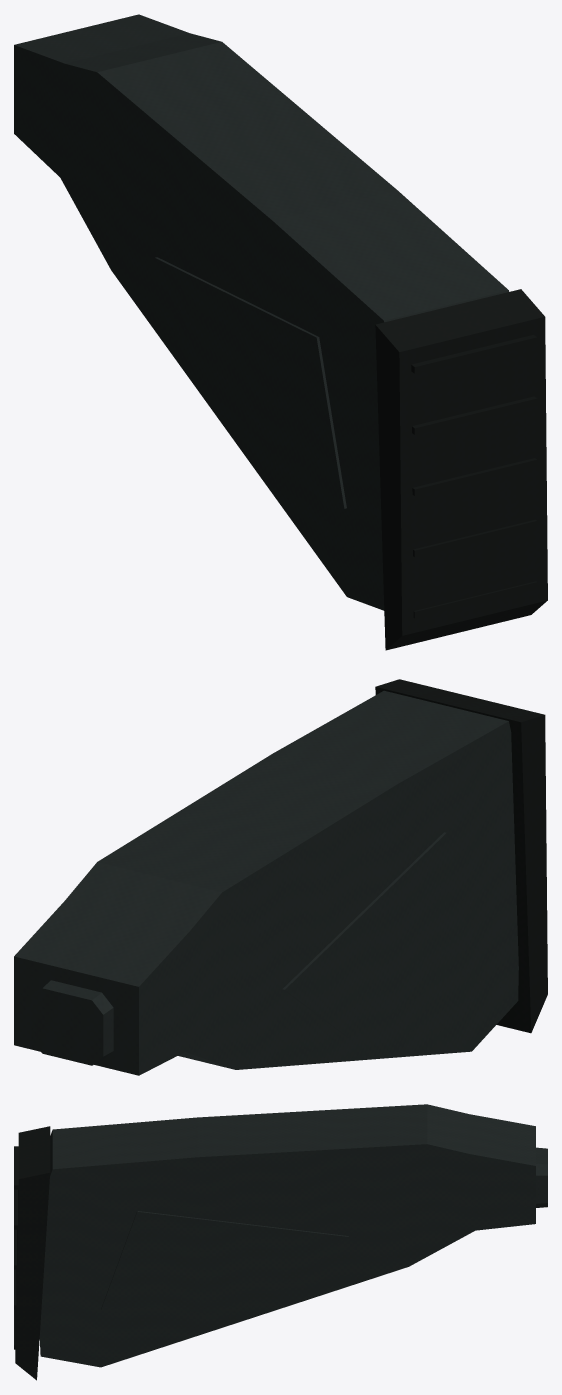
The model's file is saiga_stock.glb.
3 renders of one model, top to bottom at view 1: azimuth 30°, elevation 25°; view 2: azimuth 150°, elevation 25°; view 3: azimuth 270°, elevation 25°, orthographic. The views are drawn at different scales.
Visible parts, largest first — view 1: stock__saiga_stock_LOD0_RAID_Secondary_Original_polymer, stock__saiga_stock_LOD1_RAID_Secondary_Original_polymer, stock__saiga_stock_LOD1_RAID_Secondary_Original_rubber, stock__saiga_stock_LOD0_RAID_Secondary_Original_rubber; view 2: stock__saiga_stock_LOD0_RAID_Secondary_Original_polymer, stock__saiga_stock_LOD1_RAID_Secondary_Original_polymer, stock__saiga_stock_LOD0_RAID_Secondary_Original_rubber, stock__saiga_stock_LOD1_RAID_Secondary_Original_rubber; view 3: stock__saiga_stock_LOD0_RAID_Secondary_Original_polymer, stock__saiga_stock_LOD1_RAID_Secondary_Original_polymer, stock__saiga_stock_LOD0_RAID_Secondary_Original_rubber, stock__saiga_stock_LOD1_RAID_Secondary_Original_rubber.
Boxes of the visible parts, x1=… form: stock__saiga_stock_LOD0_RAID_Secondary_Original_polymer: x1=16, y1=16, x2=500, y2=605; stock__saiga_stock_LOD1_RAID_Secondary_Original_polymer: x1=14, y1=14, x2=508, y2=610; stock__saiga_stock_LOD1_RAID_Secondary_Original_rubber: x1=375, y1=289, x2=547, y2=650; stock__saiga_stock_LOD0_RAID_Secondary_Original_rubber: x1=376, y1=291, x2=545, y2=648; stock__saiga_stock_LOD0_RAID_Secondary_Original_polymer: x1=18, y1=693, x2=517, y2=1069; stock__saiga_stock_LOD1_RAID_Secondary_Original_polymer: x1=14, y1=690, x2=518, y2=1075; stock__saiga_stock_LOD0_RAID_Secondary_Original_rubber: x1=378, y1=680, x2=546, y2=1030; stock__saiga_stock_LOD1_RAID_Secondary_Original_rubber: x1=375, y1=679, x2=547, y2=1033; stock__saiga_stock_LOD0_RAID_Secondary_Original_polymer: x1=42, y1=1106, x2=547, y2=1358; stock__saiga_stock_LOD1_RAID_Secondary_Original_polymer: x1=39, y1=1104, x2=535, y2=1367; stock__saiga_stock_LOD0_RAID_Secondary_Original_rubber: x1=14, y1=1127, x2=49, y2=1377; stock__saiga_stock_LOD1_RAID_Secondary_Original_rubber: x1=15, y1=1126, x2=50, y2=1380.
Size of the model in its own units: 0.091 by 0.213 by 0.442.
2 materials, 2 textured.
